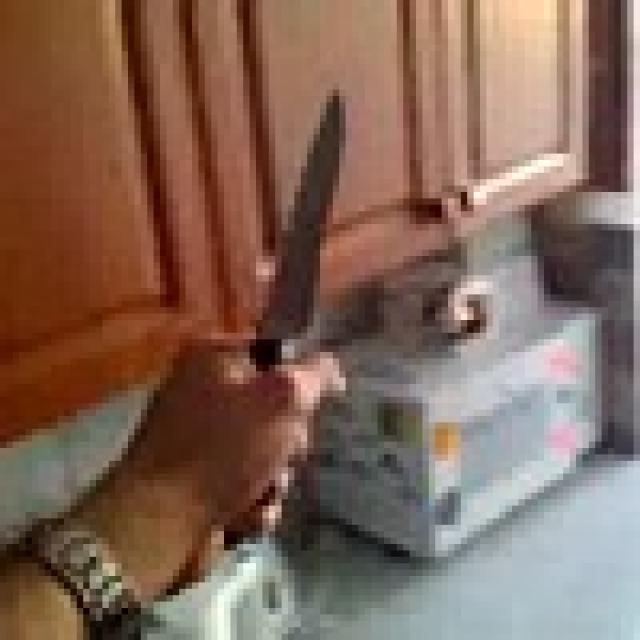Knife: (250, 90, 364, 378)
